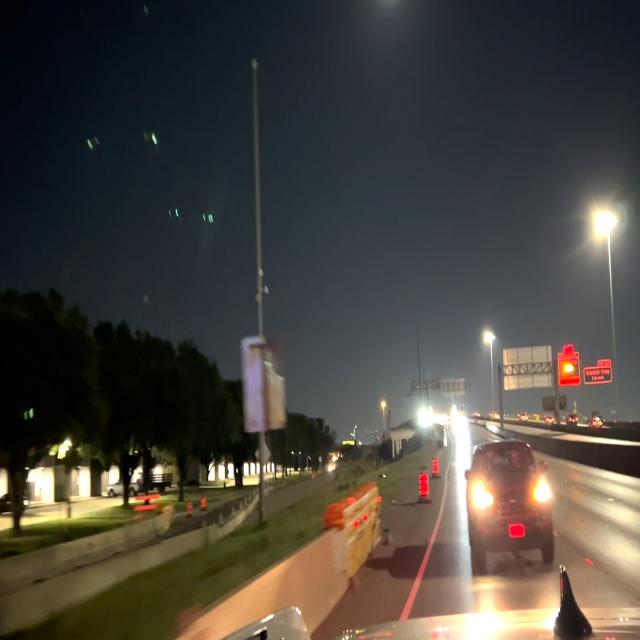back-of-sign: (239, 334, 288, 434), (501, 343, 556, 392), (436, 375, 468, 402)
